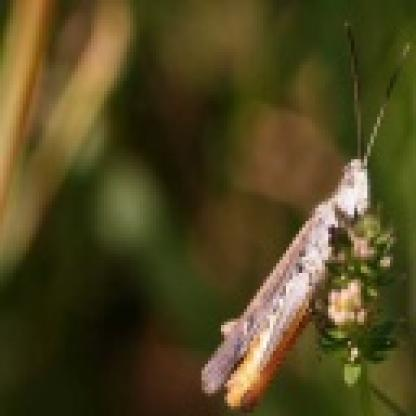grasshopper: (195, 19, 416, 408)
